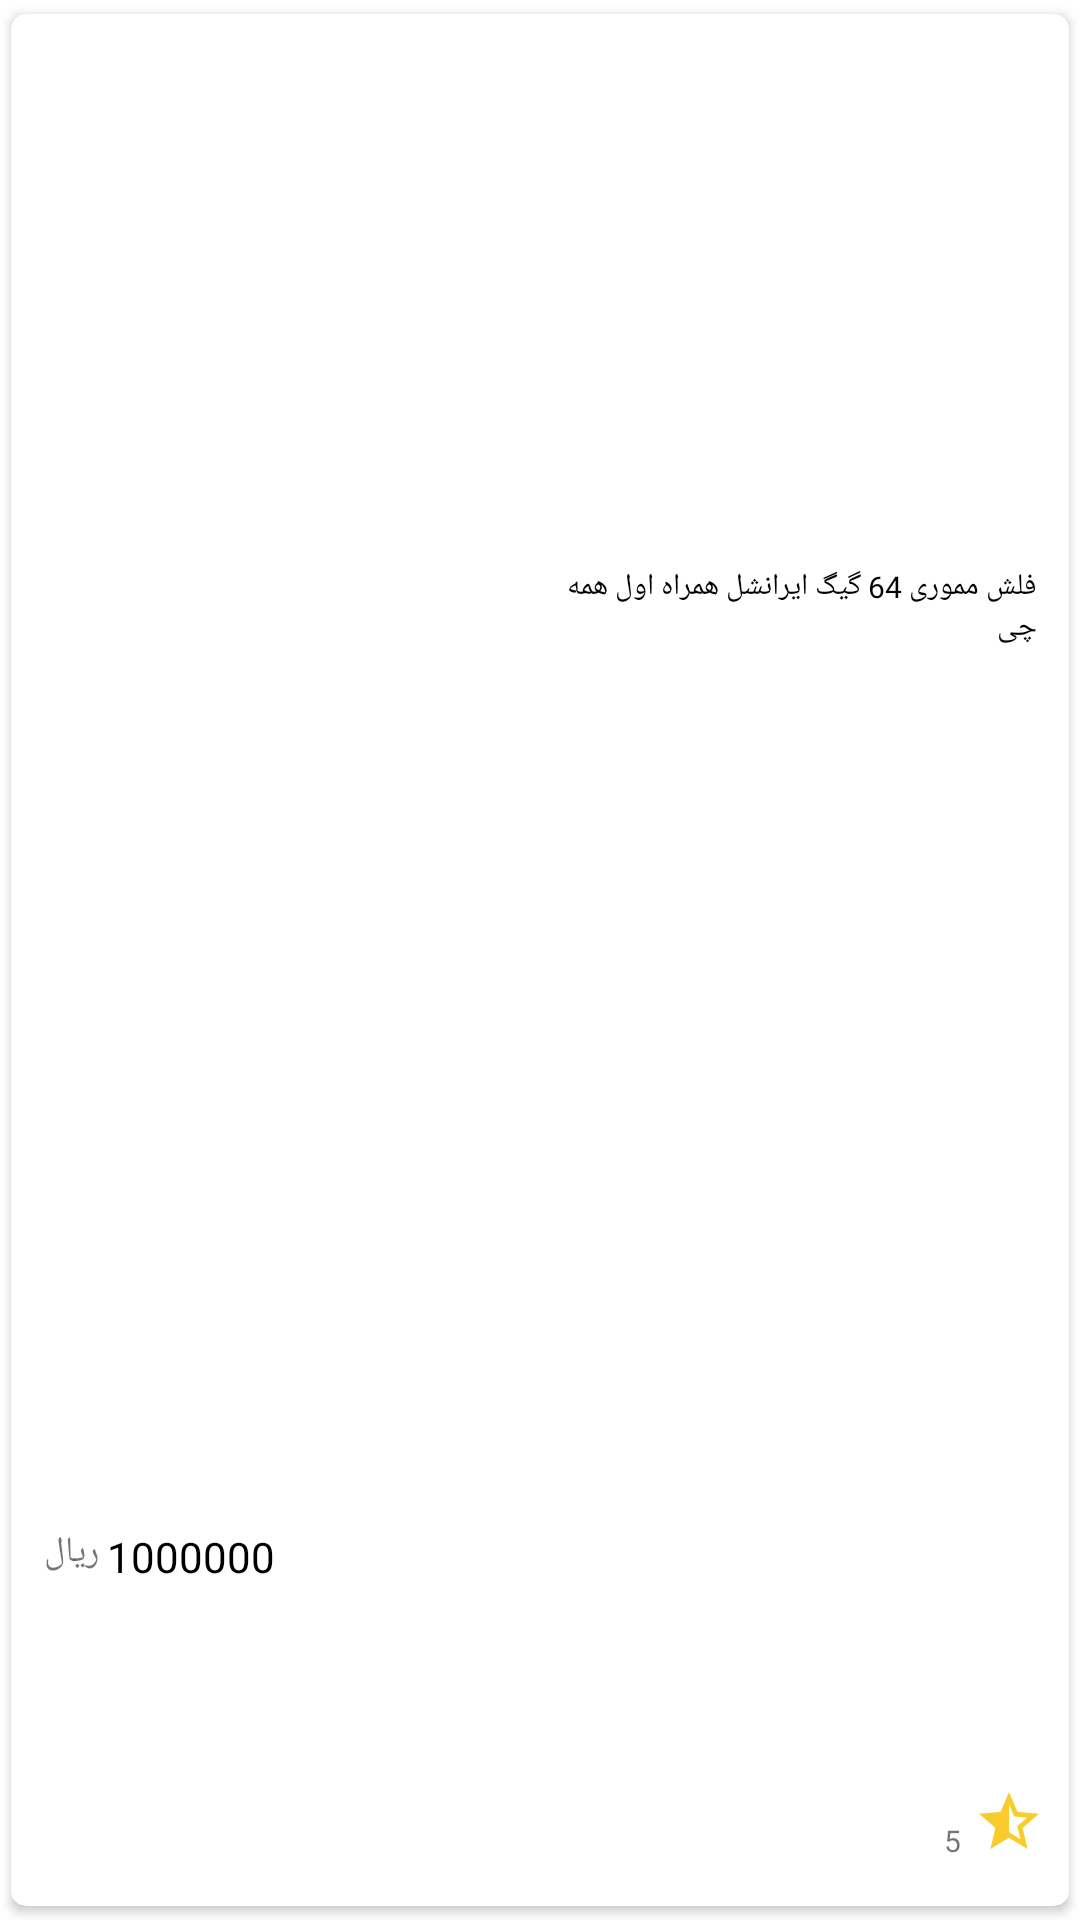

Icon bounding boxes for this 1080×1920 phone screenshot, format bbox(x1, y1, x2, y2):
star half: bbox(979, 1792, 1039, 1849)
